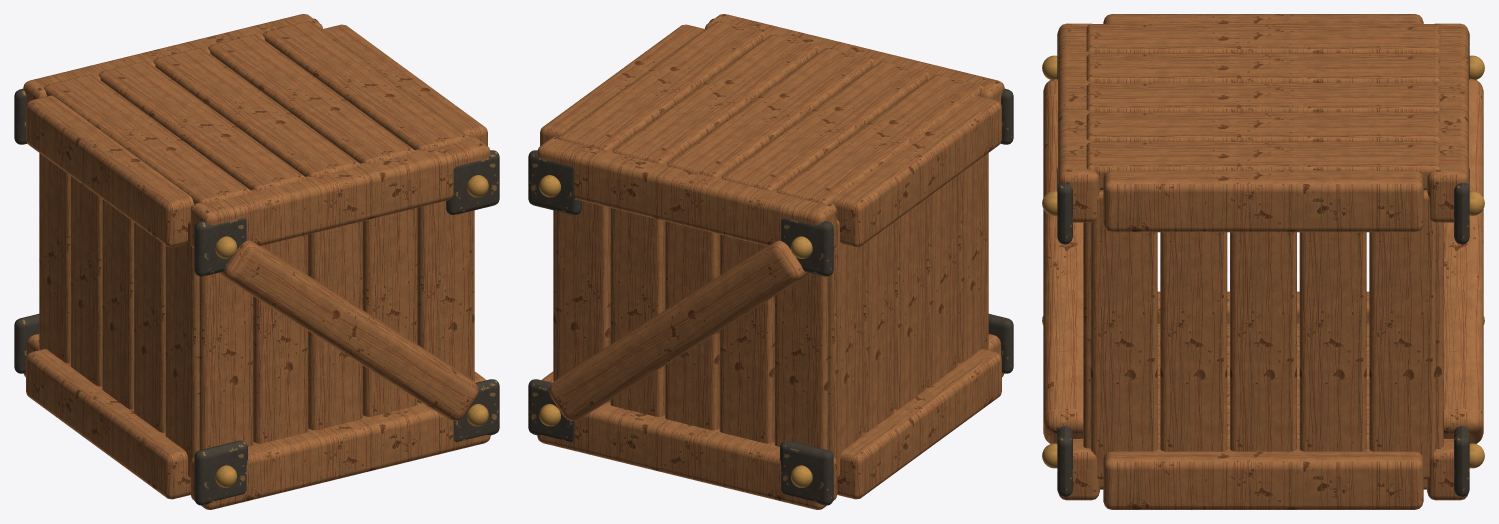
Rendered from S2_木箱_分享包版.glb.
3 renders of one model, left to right at view 1: azimuth 30°, elevation 25°; view 2: azimuth 150°, elevation 25°; view 3: azimuth 270°, elevation 25°, orthographic. The views are drawn at different scales.
Visible parts, largest first — view 1: Horizontal framing.001, Diagonal oak brace, Horizontal framing, Side framing.001, Side framing, Front back oak plank, Lid plank.002, Lid plank.004, Lid plank.001, Lid plank.003, Front back oak plank.004, Lid plank (+16 smaller); view 2: Horizontal framing.003, Diagonal oak brace.001, Horizontal framing.002, Side framing.001, Side framing, Front back oak plank.005, Lid plank.002, Lid plank.004, Lid plank.001, Lid plank.003, Front back oak plank.009, Lid plank (+16 smaller); view 3: Side framing.003, Side framing.002, Side oak plank.005, Side oak plank.009, Side oak plank.006, Side oak plank.008, Side oak plank.007, Lid plank.004, Lid plank, Lid plank.003, Lid plank.002, Lid plank.001 (+13 smaller).
Part boxes in pixels (x1,y1,x2,y2): Horizontal framing.001: (190,136,490,248); Diagonal oak brace: (218,240,478,421); Horizontal framing: (190,402,490,509); Side framing.001: (26,95,193,247); Side framing: (26,349,190,499); Front back oak plank: (199,273,253,449); Lid plank.002: (153,48,360,177); Lid plank.004: (262,21,469,150); Lid plank.001: (98,61,305,190); Lid plank.003: (208,34,415,163); Front back oak plank.004: (417,201,472,403); Lid plank: (44,74,251,204); Horizontal framing.003: (537,136,837,248); Diagonal oak brace.001: (549,240,809,421); Horizontal framing.002: (537,402,837,509); Side framing.001: (834,95,1001,247); Side framing: (837,349,1001,499); Front back oak plank.005: (774,273,828,449); Lid plank.002: (667,48,874,177); Lid plank.004: (558,21,765,150); Lid plank.001: (722,61,929,190); Lid plank.003: (612,34,819,163); Front back oak plank.009: (555,201,610,403); Lid plank: (776,74,983,204); Side framing.003: (1103,170,1423,232); Side framing.002: (1103,447,1423,509); Side oak plank.005: (1090,190,1157,479); Side oak plank.009: (1369,190,1436,479); Side oak plank.006: (1160,232,1227,451); Side oak plank.008: (1299,232,1366,451); Side oak plank.007: (1230,232,1296,451); Lid plank.004: (1086,141,1440,190); Lid plank: (1086,24,1440,53); Lid plank.003: (1086,112,1440,141); Lid plank.002: (1086,83,1440,112); Lid plank.001: (1086,53,1440,82).
Bounding box in the file's own units: 1.18 × 1.05 × 1.27.
3 materials, 3 textured.
